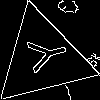Y: (18, 33, 69, 77)
